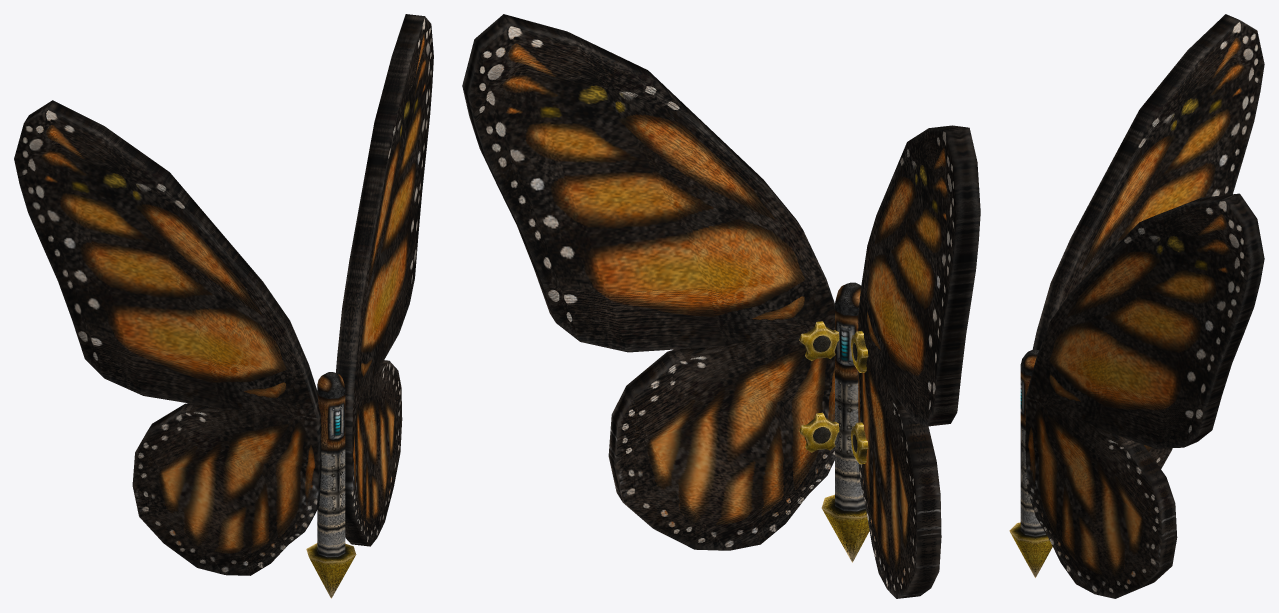
File: BACK_CHIBI_BUTTERFLY.fbx
3 renders of one model, left to right at view 1: azimuth 30°, elevation 25°; view 2: azimuth 150°, elevation 25°; view 3: azimuth 270°, elevation 25°, orthographic. The views are drawn at different scales.
Parts seen in each view (by area): view 1: BACK_CHIBI_BUTTERFLY; view 2: BACK_CHIBI_BUTTERFLY; view 3: BACK_CHIBI_BUTTERFLY.
Part boxes in pixels (box(x1,y1,x2,y2)): BACK_CHIBI_BUTTERFLY: box(14, 14, 433, 598); BACK_CHIBI_BUTTERFLY: box(462, 14, 980, 598); BACK_CHIBI_BUTTERFLY: box(1009, 14, 1264, 598).
Size of the model in its own units: 0.047 by 0.05 by 0.0246.
